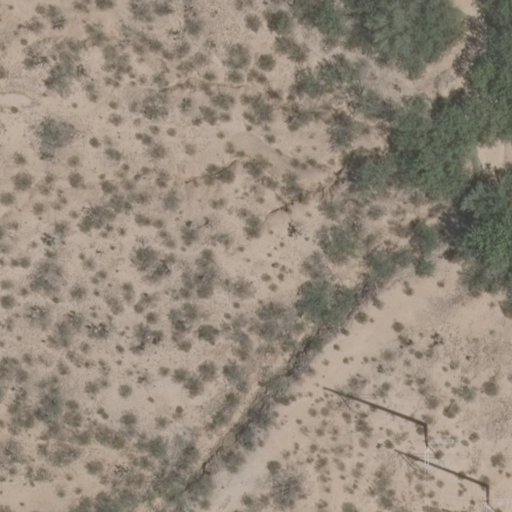DT: (412, 417, 440, 456), (472, 478, 500, 510)
